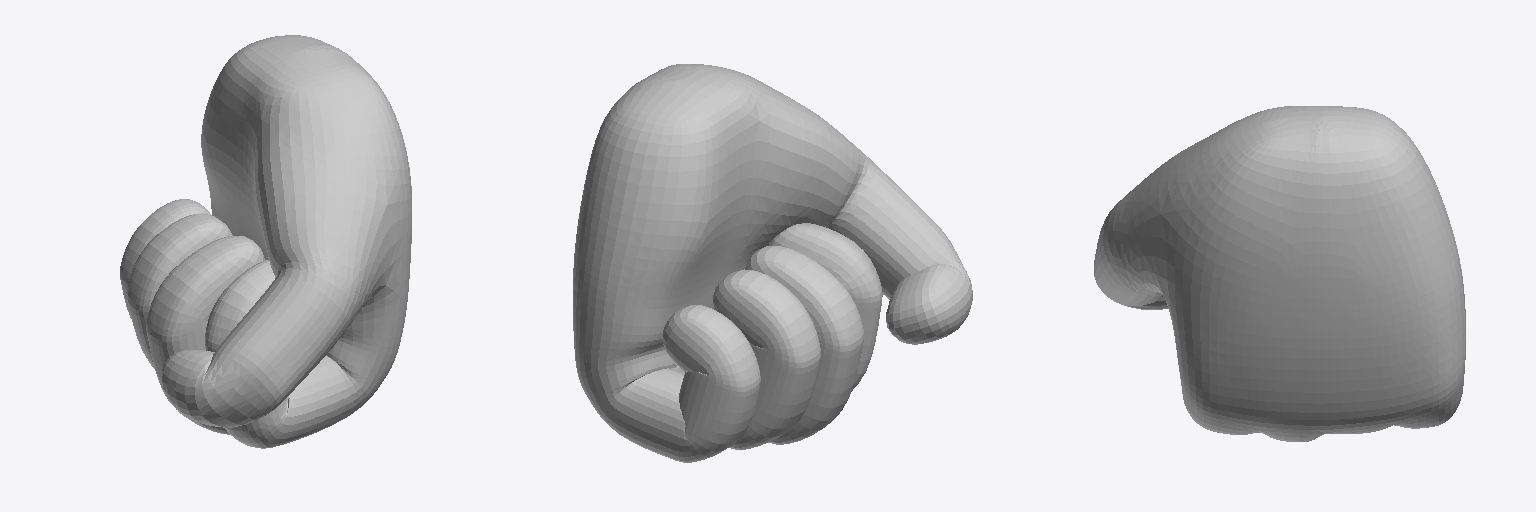
File: HandL-closed.obj
3 views of the same model, side by side, from view 1: azimuth 30°, elevation 25°; view 2: azimuth 150°, elevation 25°; view 3: azimuth 270°, elevation 25° (orthographic).
Visible parts, largest first — view 1: GEO-Body.002_Body.006; view 2: GEO-Body.002_Body.006; view 3: GEO-Body.002_Body.006.
Boxes of the visible parts, x1,y1,x2,y2 form: GEO-Body.002_Body.006: [120, 35, 411, 448]; GEO-Body.002_Body.006: [573, 64, 972, 462]; GEO-Body.002_Body.006: [1094, 106, 1465, 441].
Size of the model in its own units: 0.0837 by 0.1006 by 0.0976.